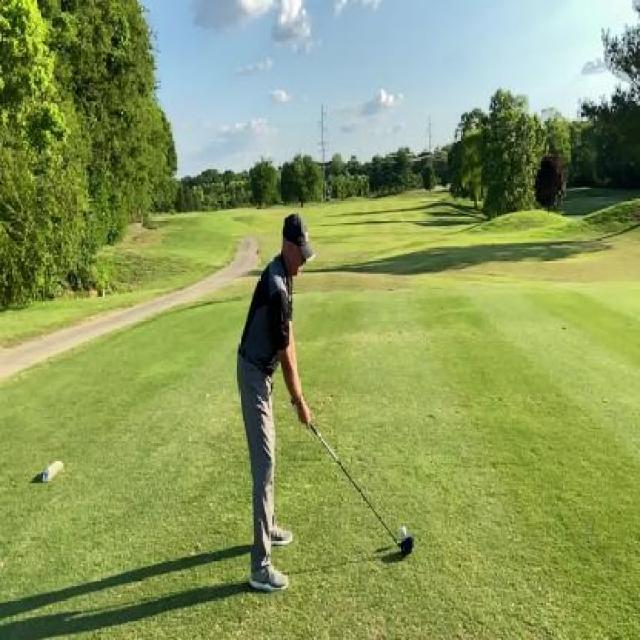club head: (390, 533, 415, 558)
